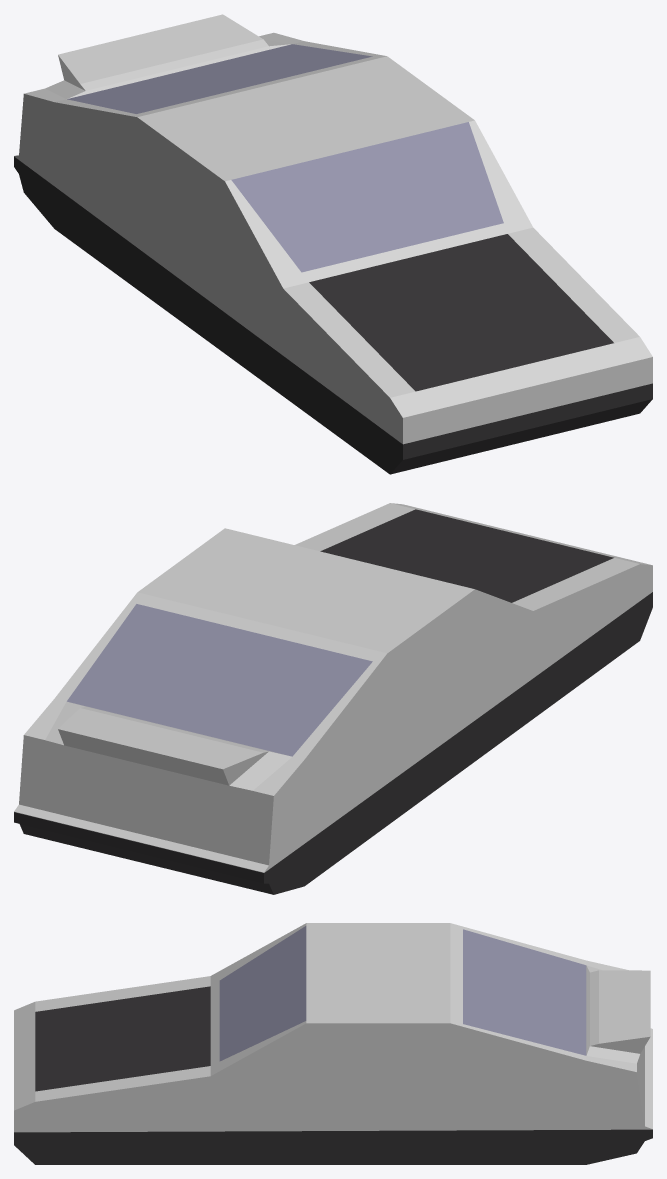
The model's file is playerCar.fbx.
3 renders of one model, top to bottom at view 1: azimuth 30°, elevation 25°; view 2: azimuth 150°, elevation 25°; view 3: azimuth 270°, elevation 25°, orthographic. The views are drawn at different scales.
Visible parts, largest first — view 1: Cube; view 2: Cube; view 3: Cube.
Boxes of the visible parts, <box> form: Cube: <box>14,14,652,474</box>; Cube: <box>14,503,652,894</box>; Cube: <box>14,923,652,1164</box>.
Size of the model in its own units: 1.72 by 4.63 by 1.13.
